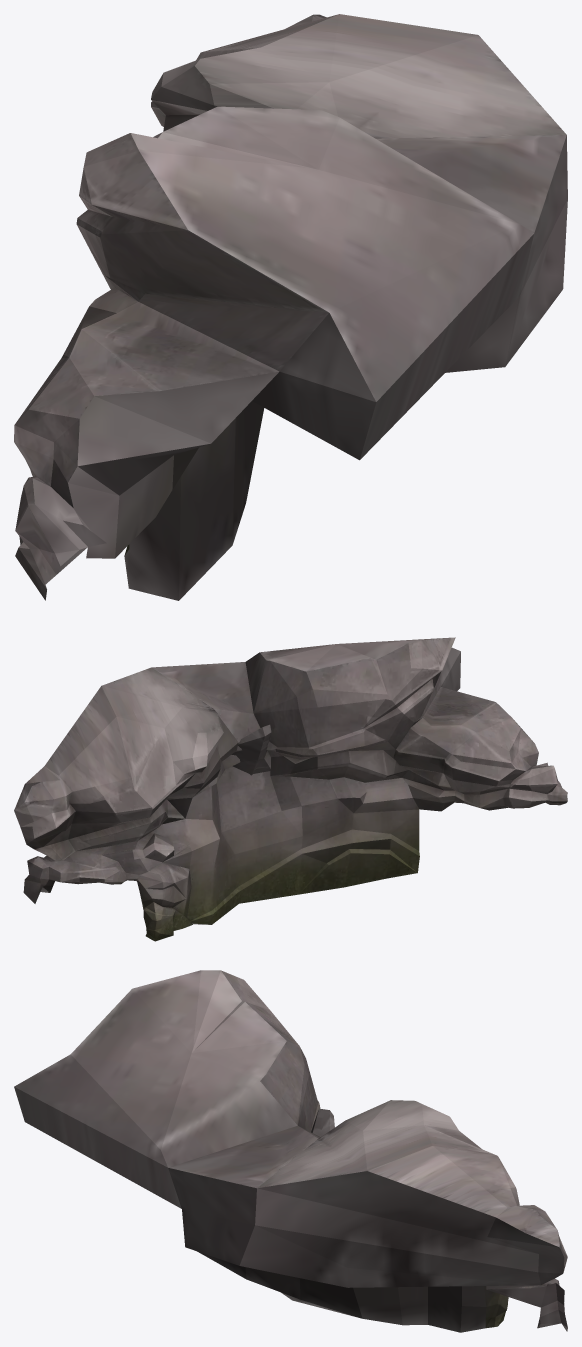
The picture shows the model from 3 angles, top to bottom: view 1: azimuth 30°, elevation 25°; view 2: azimuth 150°, elevation 25°; view 3: azimuth 270°, elevation 25°; orthographic projection. The views are drawn at different scales.
Parts seen in each view (by area): view 1: body0_model0_lod0_mesh0; view 2: body0_model0_lod0_mesh0; view 3: body0_model0_lod0_mesh0.
Boxes of the visible parts, box(x1,y1,x2,y2) form: body0_model0_lod0_mesh0: box(14, 14, 567, 600); body0_model0_lod0_mesh0: box(14, 637, 567, 941); body0_model0_lod0_mesh0: box(14, 970, 567, 1332).
Bounding box in the file's own units: 1639 × 1098 × 1919.
1 material, 1 textured.
